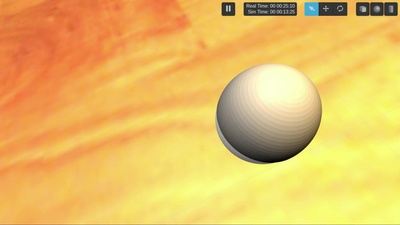mira_robot: (216, 64, 323, 165)
